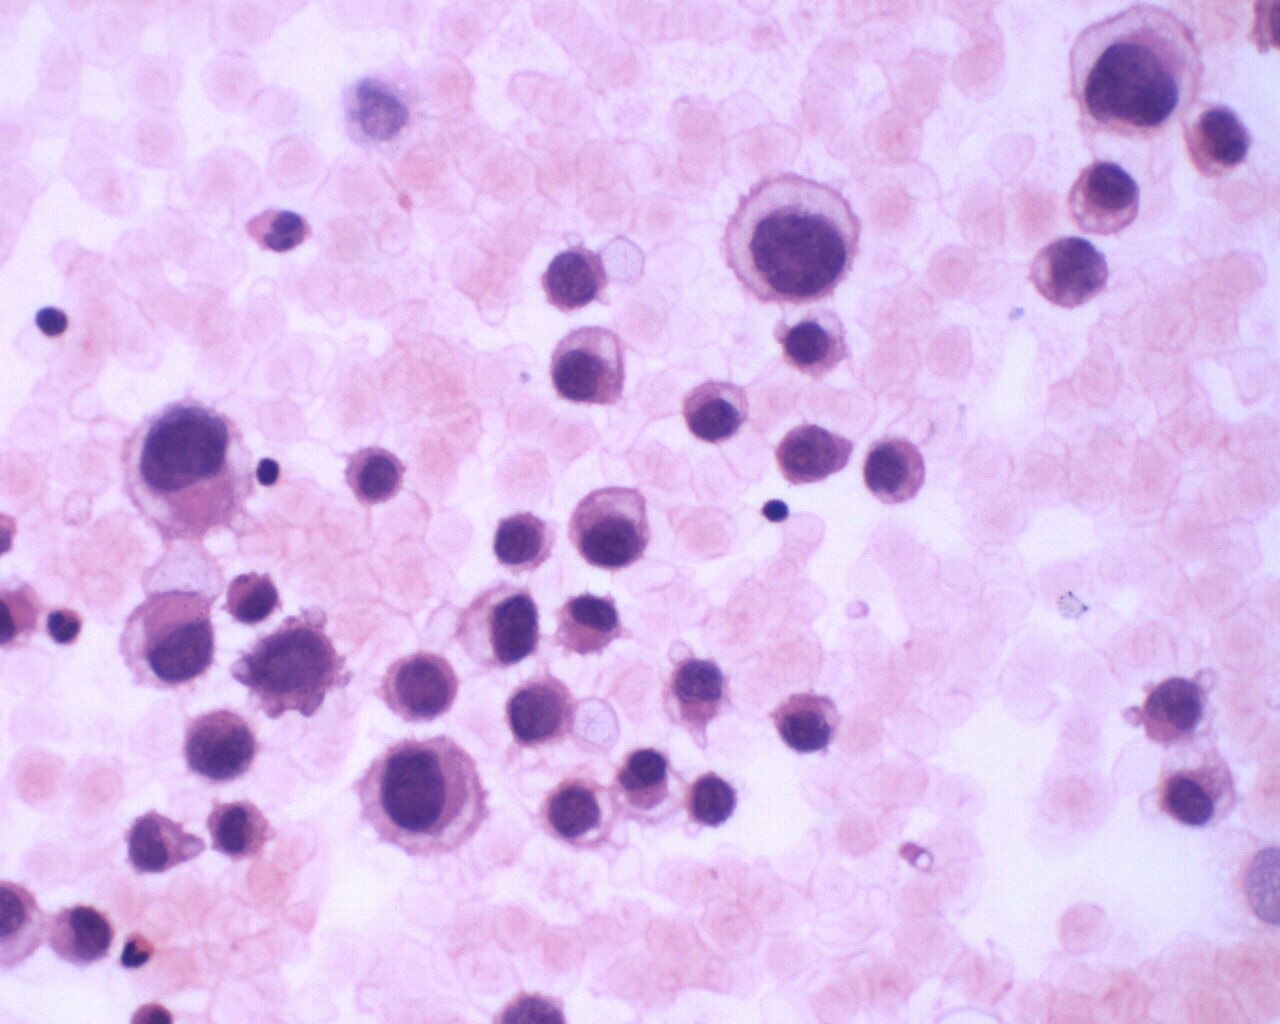ab: (120, 399, 260, 540), (722, 169, 865, 306), (1066, 4, 1200, 139), (362, 734, 499, 862), (245, 616, 343, 723), (1179, 96, 1259, 181), (378, 651, 466, 727), (1033, 237, 1115, 315), (180, 705, 257, 785), (1137, 671, 1211, 751), (504, 675, 579, 752), (489, 503, 563, 581), (535, 775, 610, 847), (771, 686, 845, 759), (677, 375, 754, 444), (775, 422, 854, 486), (48, 903, 116, 976), (338, 442, 410, 509), (858, 436, 926, 505), (541, 247, 609, 316)
lymph: (34, 303, 72, 340)
meso: (567, 482, 661, 569), (553, 589, 626, 658)
neutro: (43, 599, 86, 645), (114, 932, 159, 970), (757, 491, 795, 528)
